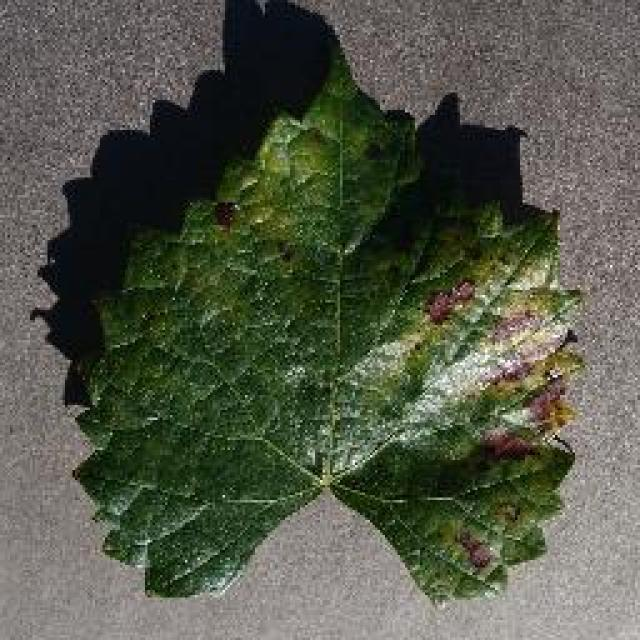Black_Measles: (81, 64, 599, 619)
